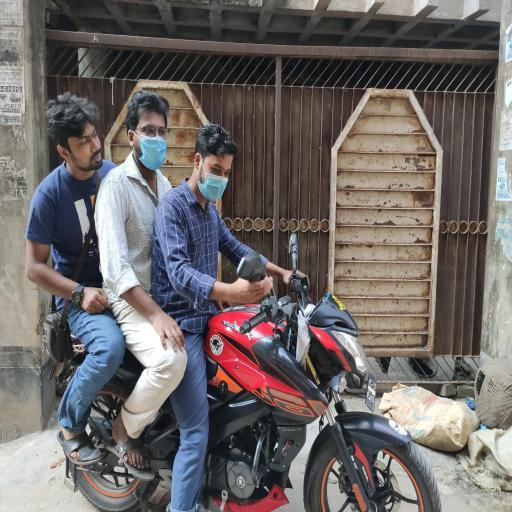no helmet: (180, 114, 238, 276)
triple riding: (24, 73, 484, 512)
